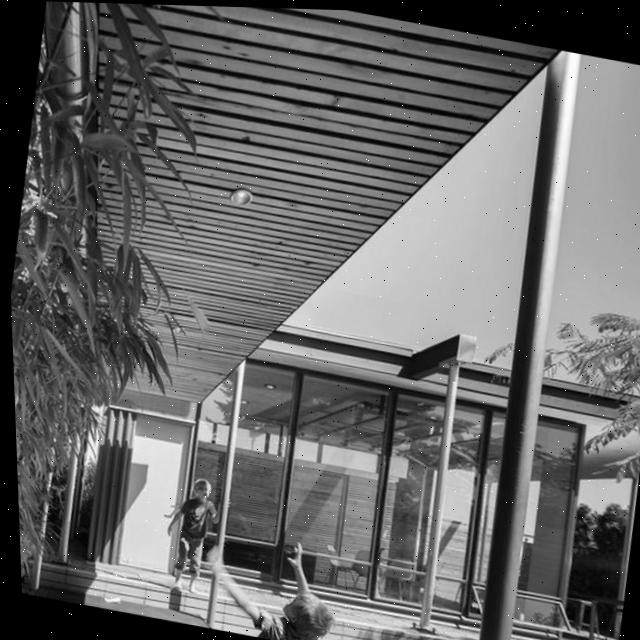building: (39, 286, 640, 640)
